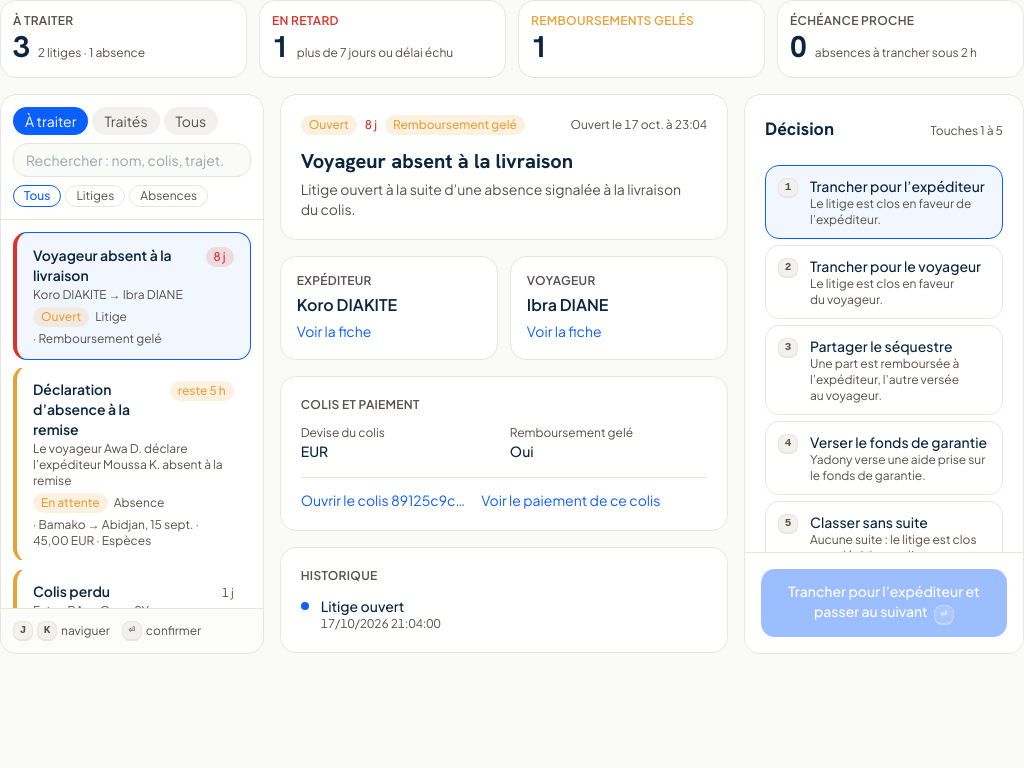
pages/incidents › décisions sur un litige › partager : formulaire, résolution avec partage
Click the radio button that starts with "Partager le séquestre".
click(884, 370)  # box [765,325,1003,415]
(page scrolled)
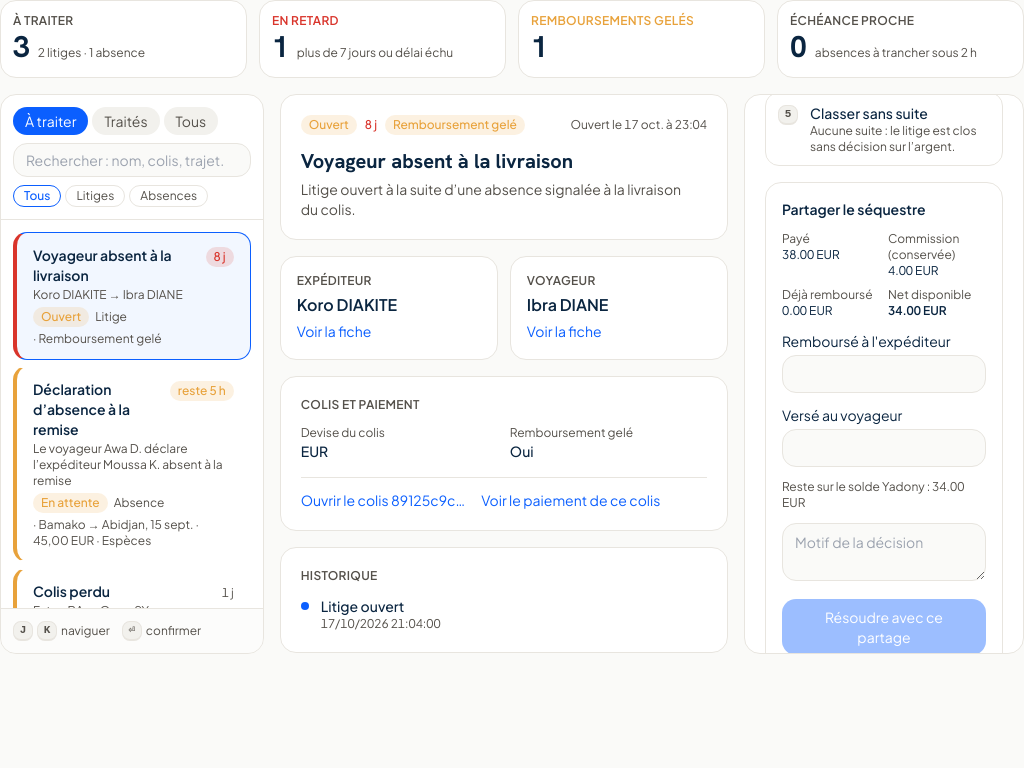
Type "20" into the number field with test id "split-sender".
click(884, 374); type("20")  # box [782,355,986,393]
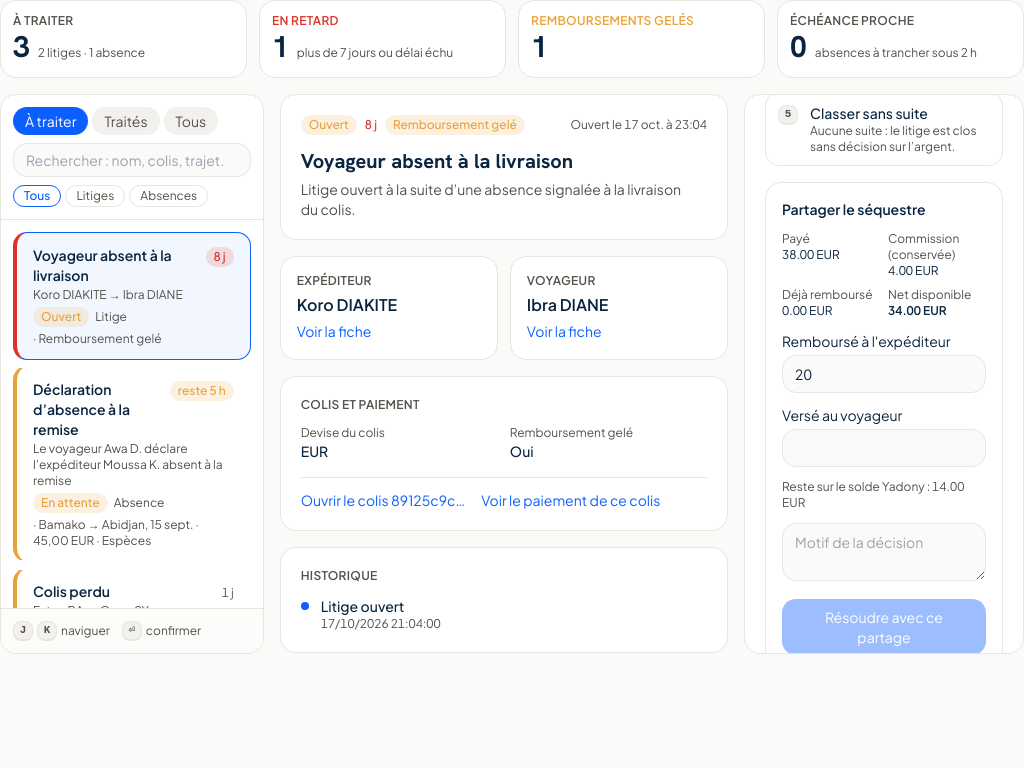
Type "14" into the number field with test id "split-traveler".
click(884, 448); type("14")  # box [782,429,986,467]
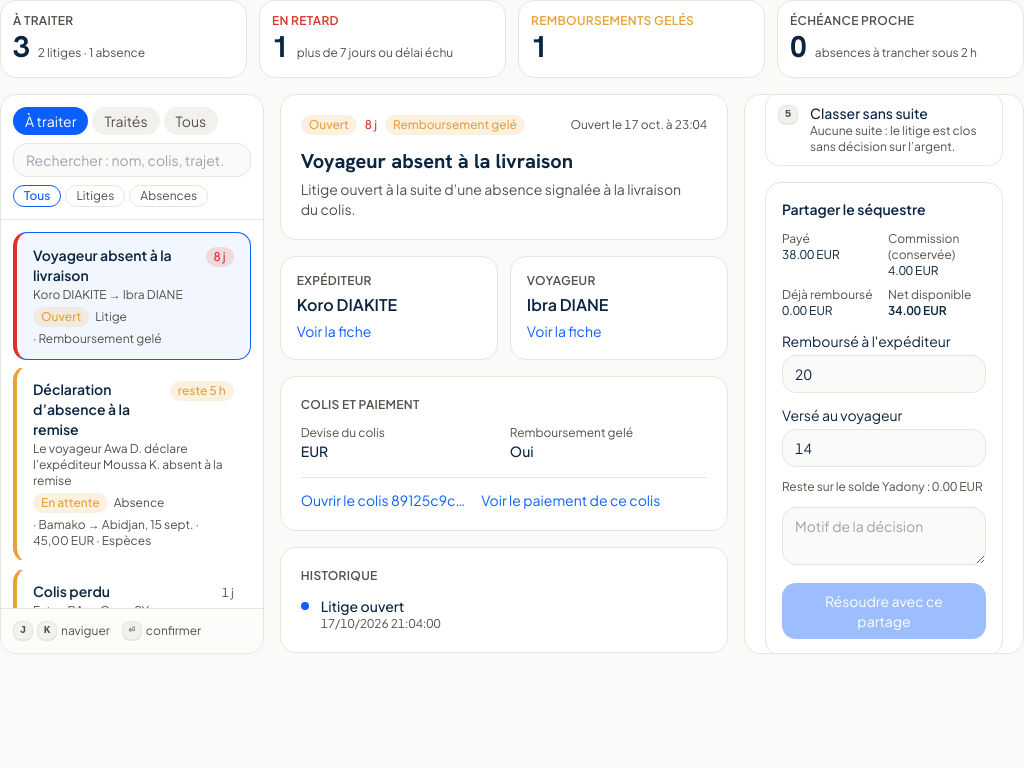
Type "Partage convenu" into the text box with test id "split-note".
click(884, 536); type("Partage convenu")  # box [782,507,986,565]
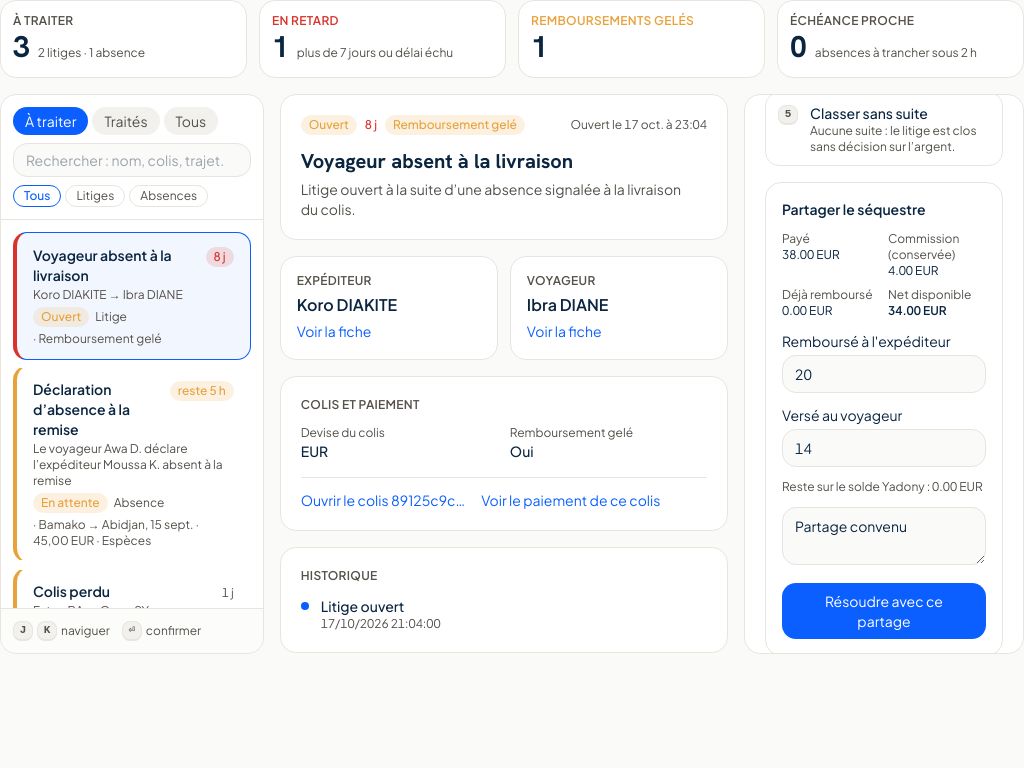
Click the button with test id "split-submit".
click(884, 611)  # box [782,583,986,639]
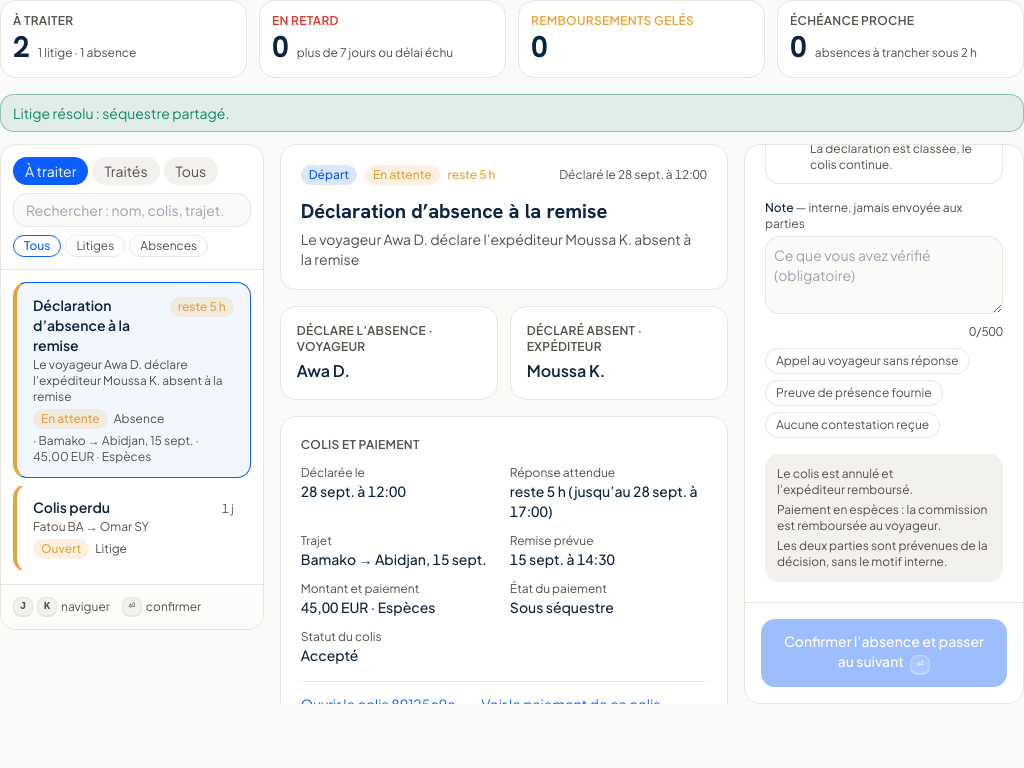
Expected: the message with test id "incidents-done" reads "Litige résolu : séquestre partagé.", [13,104,229,122]
